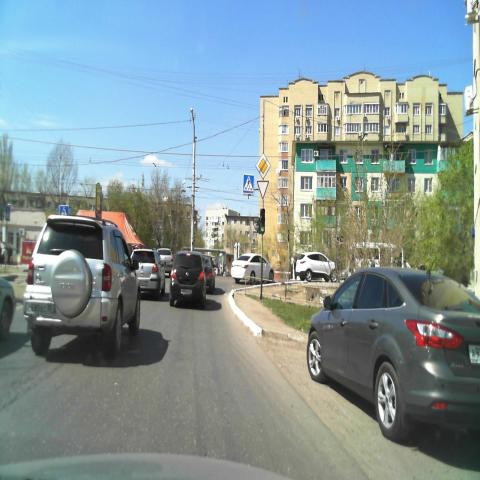2_4: (257, 180, 269, 199)
